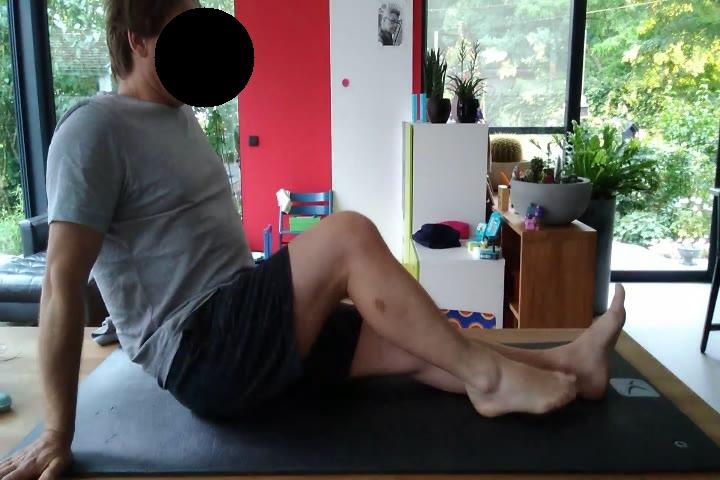lower_body: (162, 208, 630, 422)
